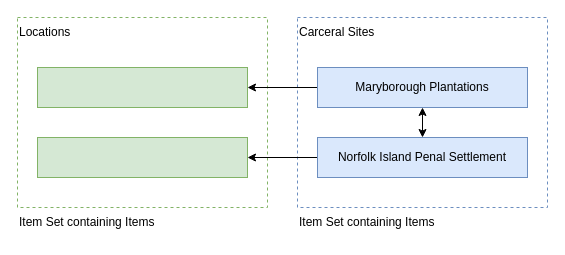
Some shapes in this 565 by 255 pixel diagram are drawn without their labels. Here are the shapes that lost their labels. From the top down, the box of each, then its label:
(36, 66, 248, 108): Norfolk Island
(36, 136, 248, 178): Maryborough / Moonaboola
